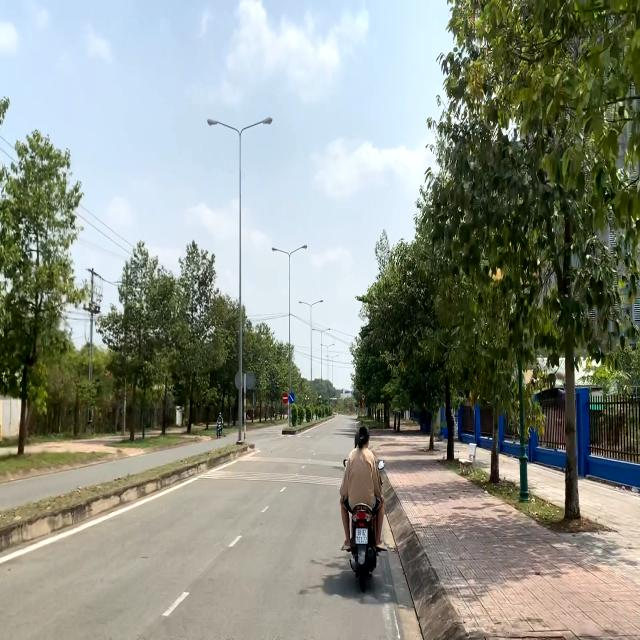P.102: (282, 392, 288, 403)
R.302a: (288, 392, 294, 404)
